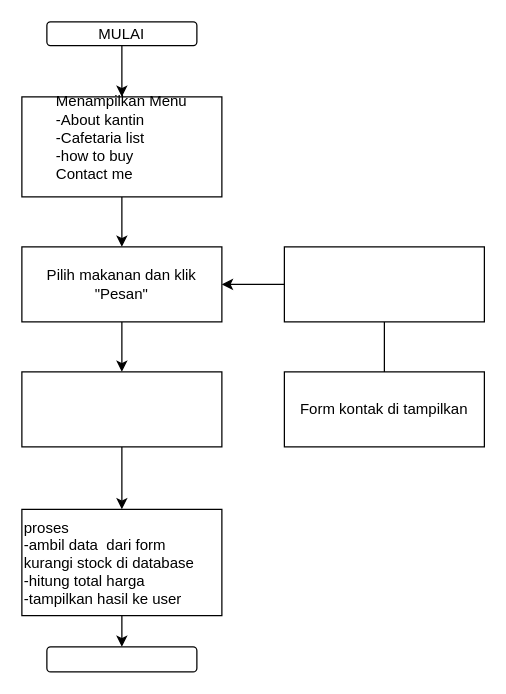
The diagram is 506 pixels wide and 694 high, and some of its shapes have lost their labels. The shapes that lost their labels are listed below. From the top down, each one's centre as x and y in pixels, then its label:
pixel 383 284: User klik "contact me"
pixel 121 409: form input jumlah makanan + submit
pixel 121 659: SELESAI
